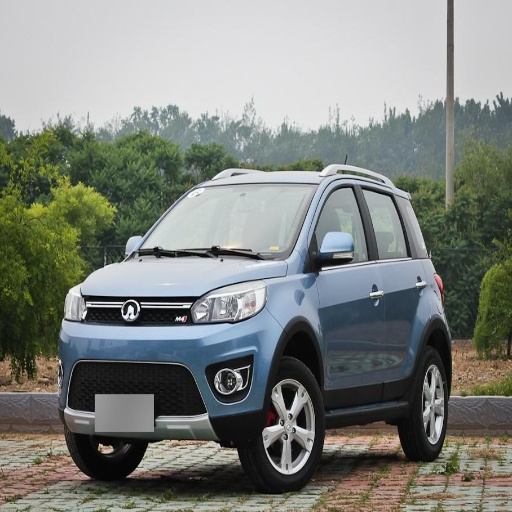back_left_door: (362, 177, 426, 400)
front_bumper: (63, 288, 281, 441)
front_glass: (138, 188, 315, 259)
front_left_door: (309, 177, 383, 408)
